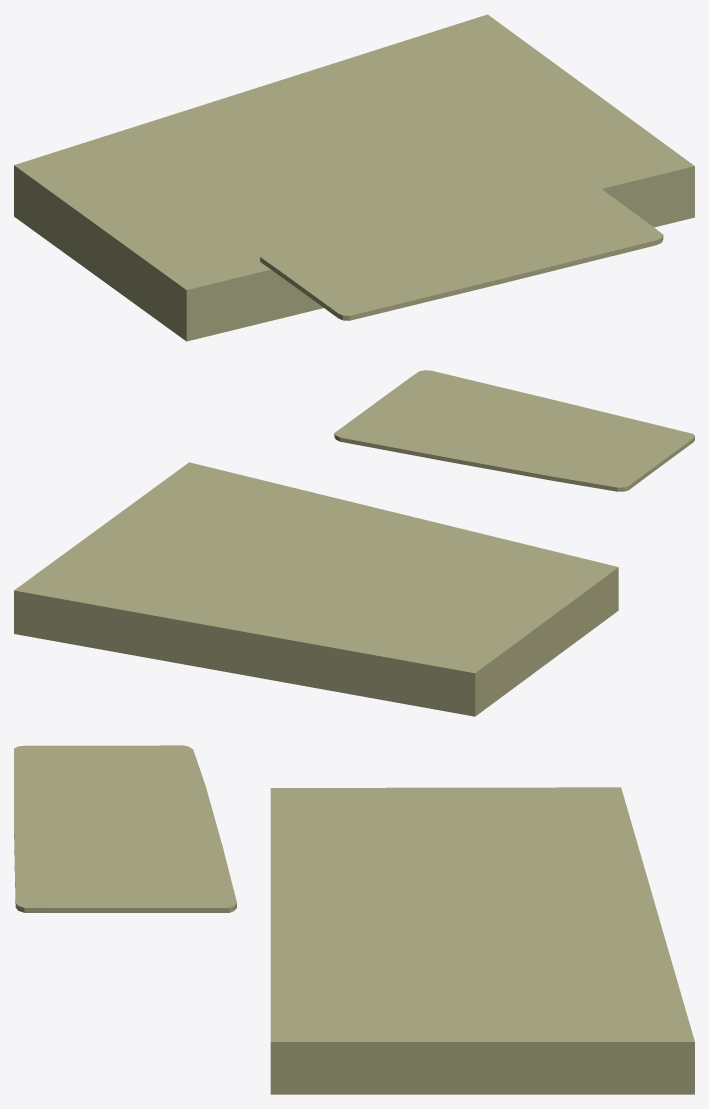
The model's file is basegrande.fbx.
The picture shows the model from 3 angles, top to bottom: view 1: azimuth 30°, elevation 25°; view 2: azimuth 150°, elevation 25°; view 3: azimuth 270°, elevation 25°; orthographic projection. The views are drawn at different scales.
Parts seen in each view (by area): view 1: plano, plano.001; view 2: plano, plano.001; view 3: plano, plano.001.
Part boxes in pixels (bbox=[...]): plano: bbox=[14, 14, 694, 341]; plano.001: bbox=[260, 160, 663, 320]; plano: bbox=[14, 462, 618, 716]; plano.001: bbox=[334, 370, 694, 491]; plano: bbox=[270, 787, 694, 1094]; plano.001: bbox=[14, 745, 236, 912].
Size of the model in its own units: 1461 by 296 by 1652.
